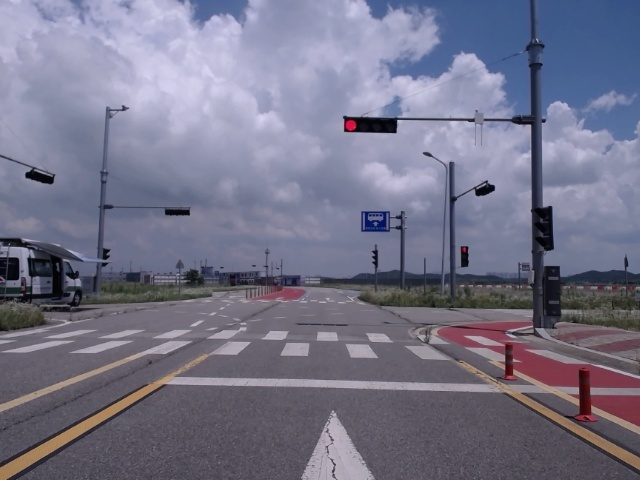red_4: (344, 119, 397, 133)
